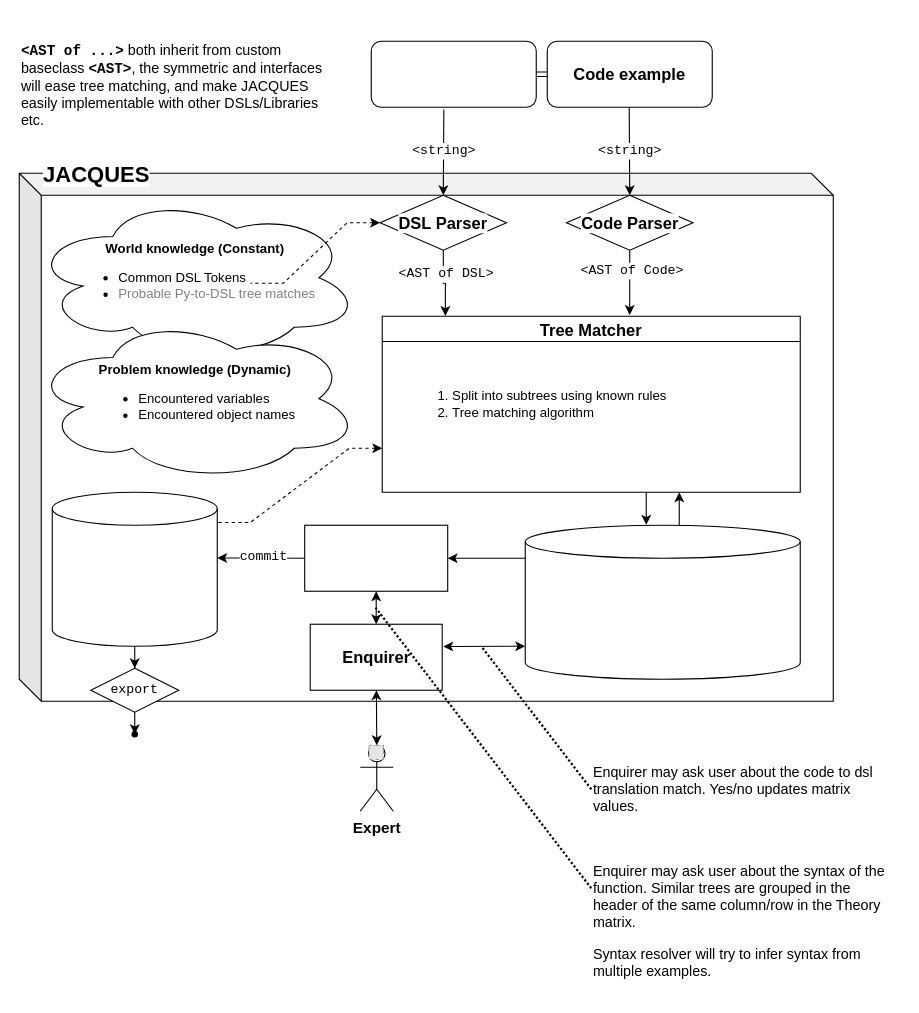
Image size: 919x1013. Some labels were removed from this diagram. Grey dashed boxes stand in for pictures. Each missing label, with the centre of its shape:
"DSL example" belongs at point (453, 73).
"Ruleset" belongs at point (134, 568).
"Ruleset Synthesizer" belongs at point (376, 557).
"Theory (Dynamic) Matrix: DSL✕Code Confidence" belongs at point (662, 601).
